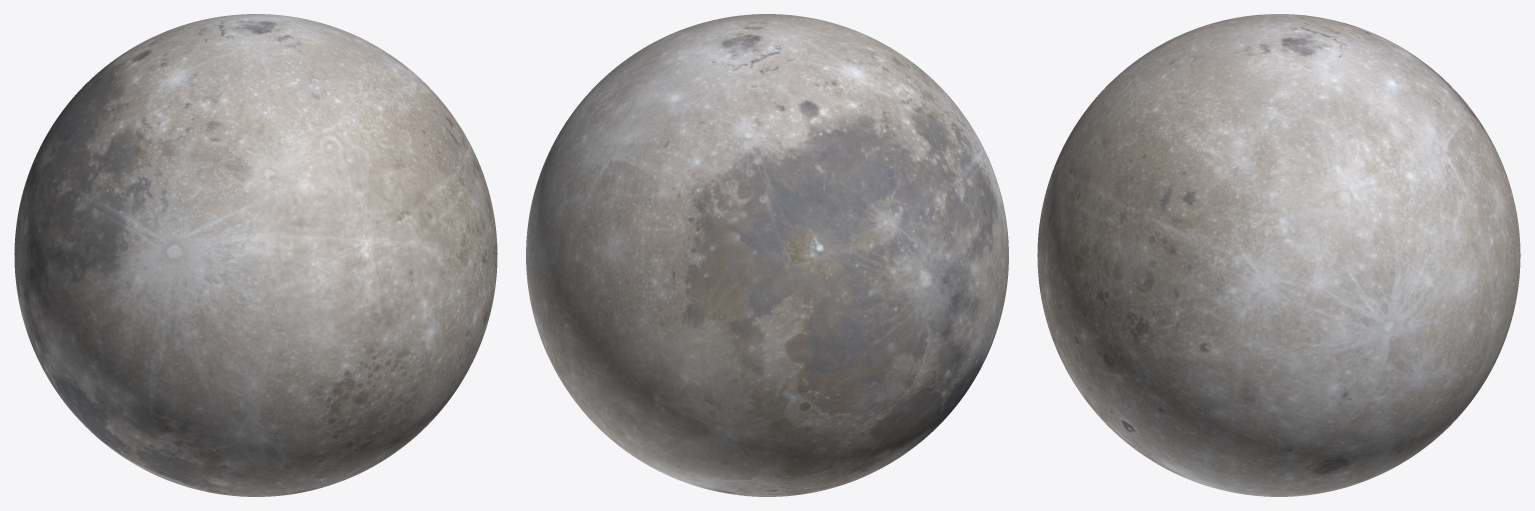
File: moon.glb
3 renders of one model, left to right at view 1: azimuth 30°, elevation 25°; view 2: azimuth 150°, elevation 25°; view 3: azimuth 270°, elevation 25°, orthographic.
Visible parts, largest first — view 1: Sphere; view 2: Sphere; view 3: Sphere.
Part boxes in pixels (box(x1,y1,x2,y2)): Sphere: box(14, 14, 497, 496); Sphere: box(526, 14, 1008, 496); Sphere: box(1037, 14, 1520, 496).
Bounding box in the file's own units: 130 × 130 × 130.
3 materials, 1 textured.
